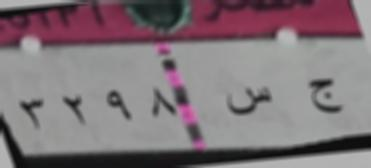2: (60, 86, 93, 136)
3: (17, 88, 51, 140)
8: (146, 84, 177, 122)
9: (104, 83, 133, 130)
jeem: (303, 74, 344, 122)
seen: (225, 78, 274, 119)
